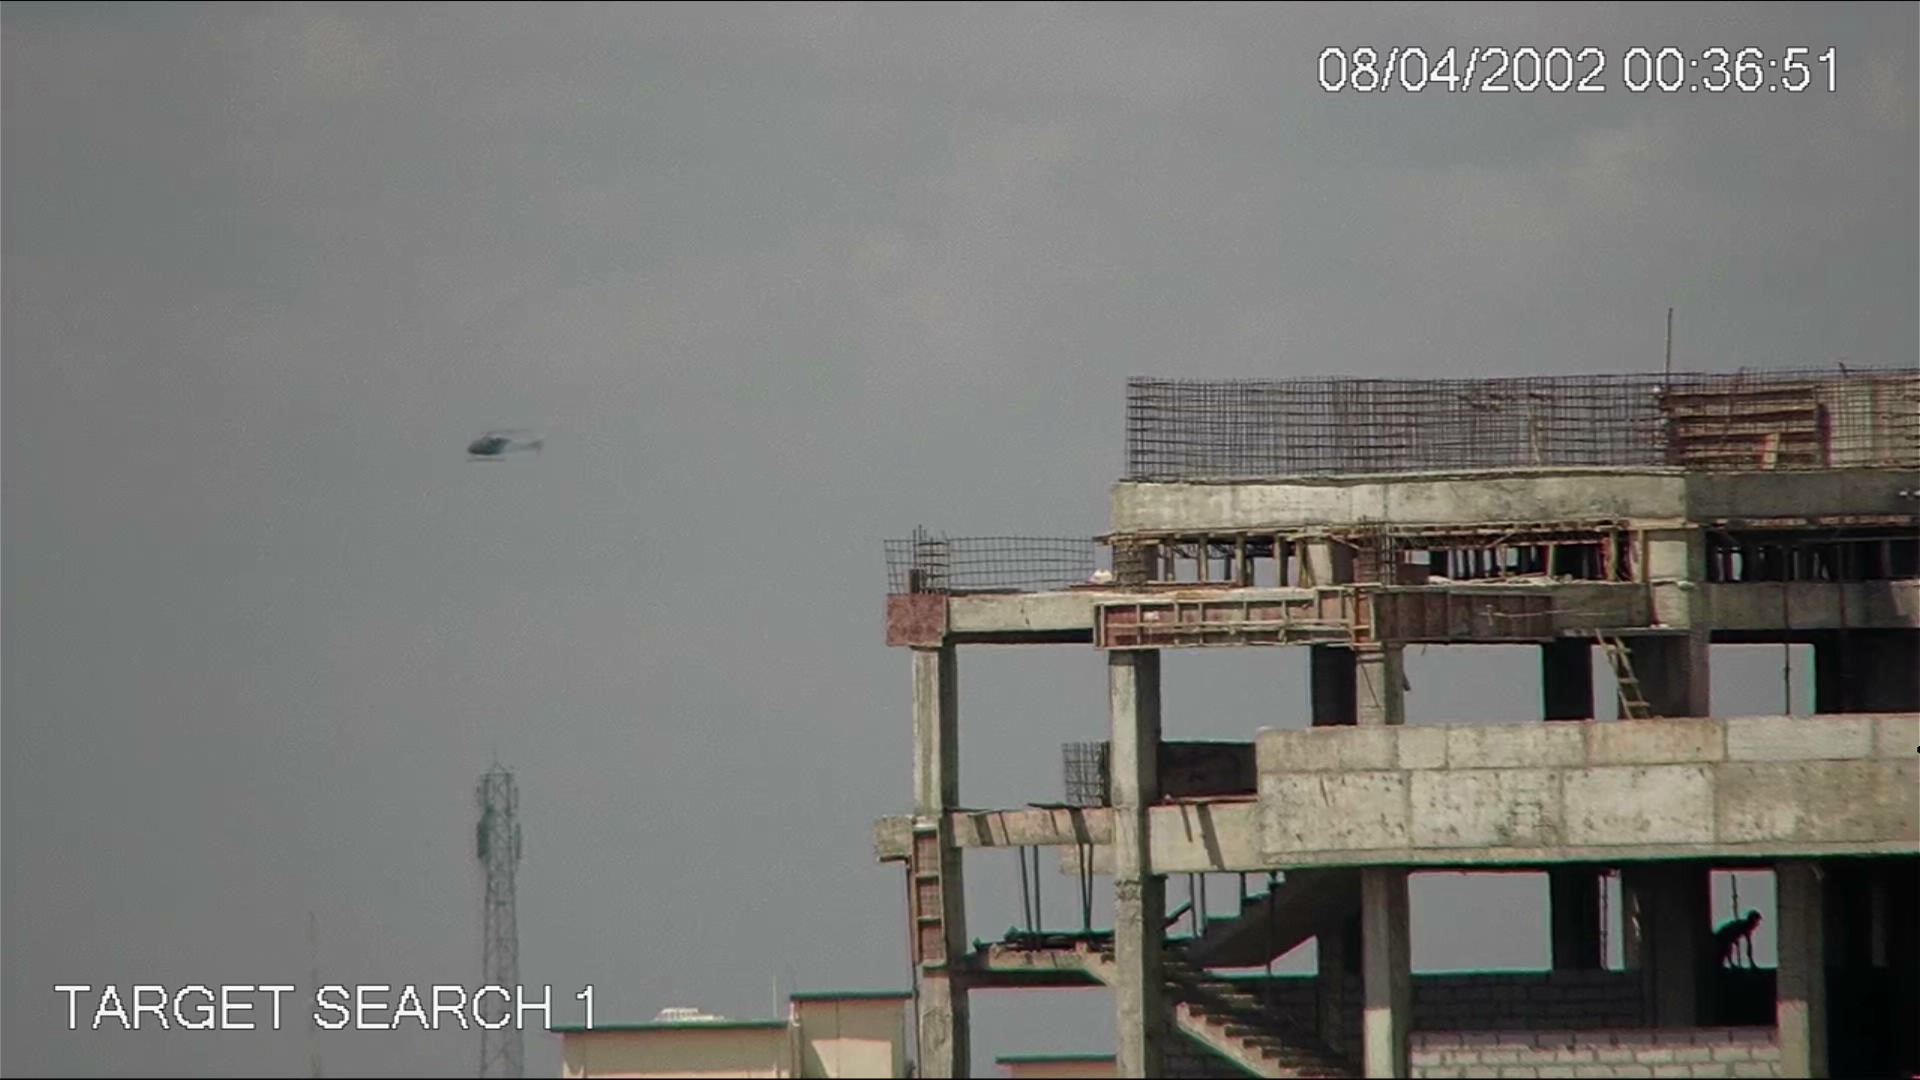SU_30: (456, 421, 553, 465)
